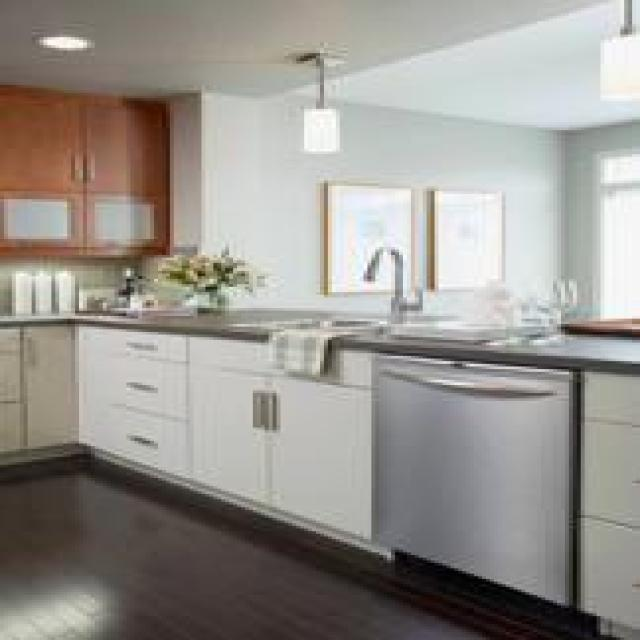dishwasher: (371, 348, 573, 608)
